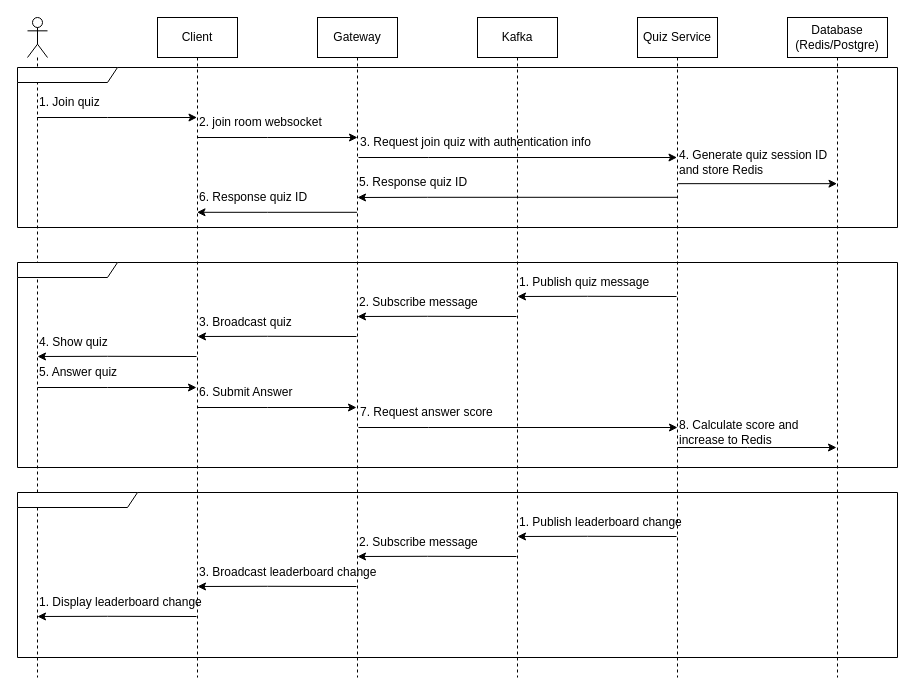
Image size: 915x695. Some labels were removed from this diagram. The shapes that lost their labels are listed below. From the top down, each one's box as (x1, y1, x2, y2) in pixels, then its label:
(16, 66, 898, 228): User Join Quiz
(16, 262, 898, 468): User anwser Quiz
(16, 492, 898, 658): Show leaderboard real-time
